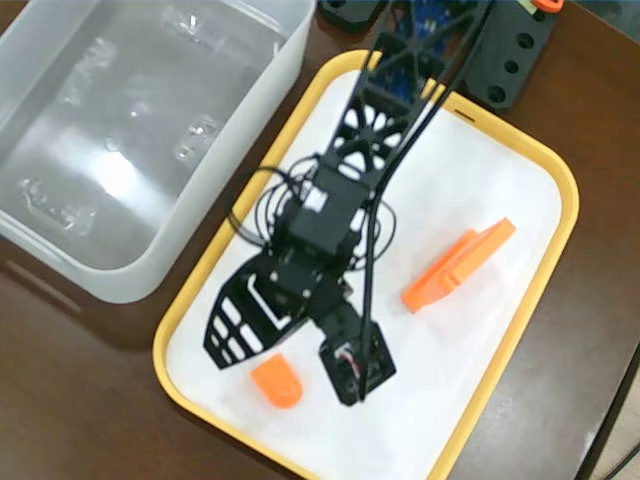pill: (231, 315, 303, 412)
